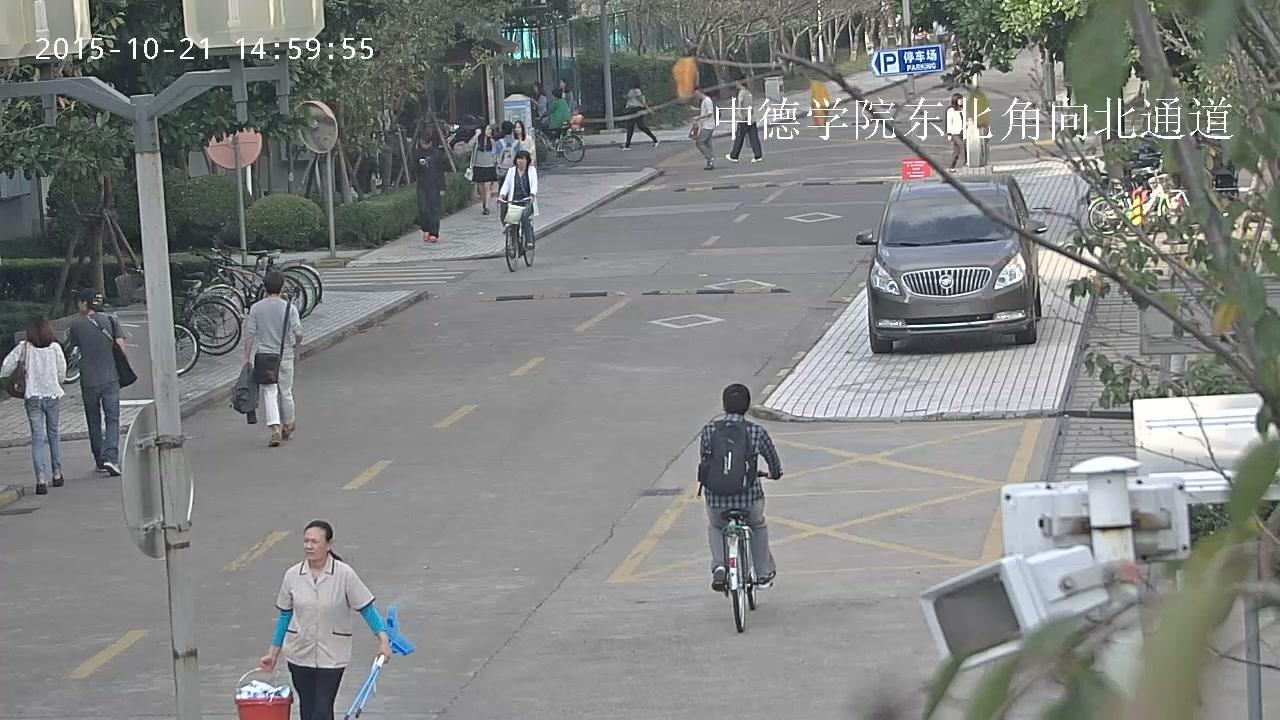face: (304, 526, 325, 561), (516, 156, 526, 167), (77, 297, 83, 312), (484, 125, 492, 136), (420, 139, 429, 148), (514, 123, 521, 134), (694, 90, 699, 98), (957, 97, 961, 105), (533, 84, 537, 91), (735, 81, 739, 88), (560, 80, 563, 88), (573, 108, 576, 115)
